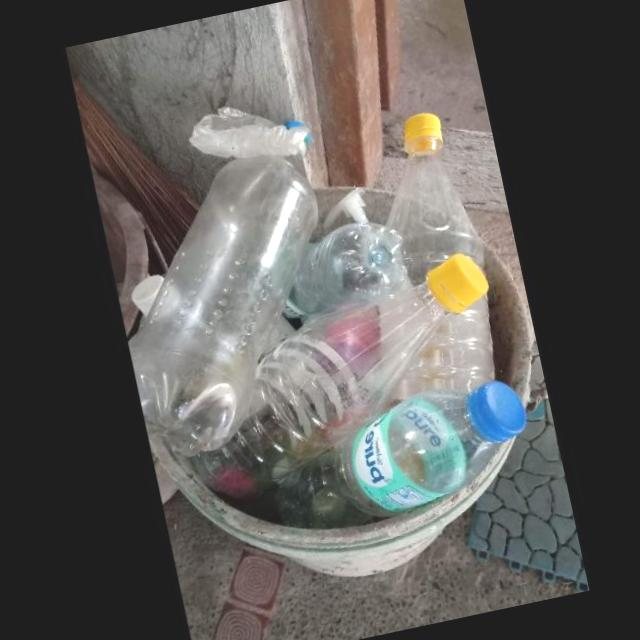chai_nhua_pet: (183, 253, 490, 500), (128, 154, 319, 457), (276, 380, 527, 529), (388, 113, 485, 285), (282, 222, 413, 318), (389, 295, 495, 404)
tui_ni_long: (189, 106, 309, 158)
